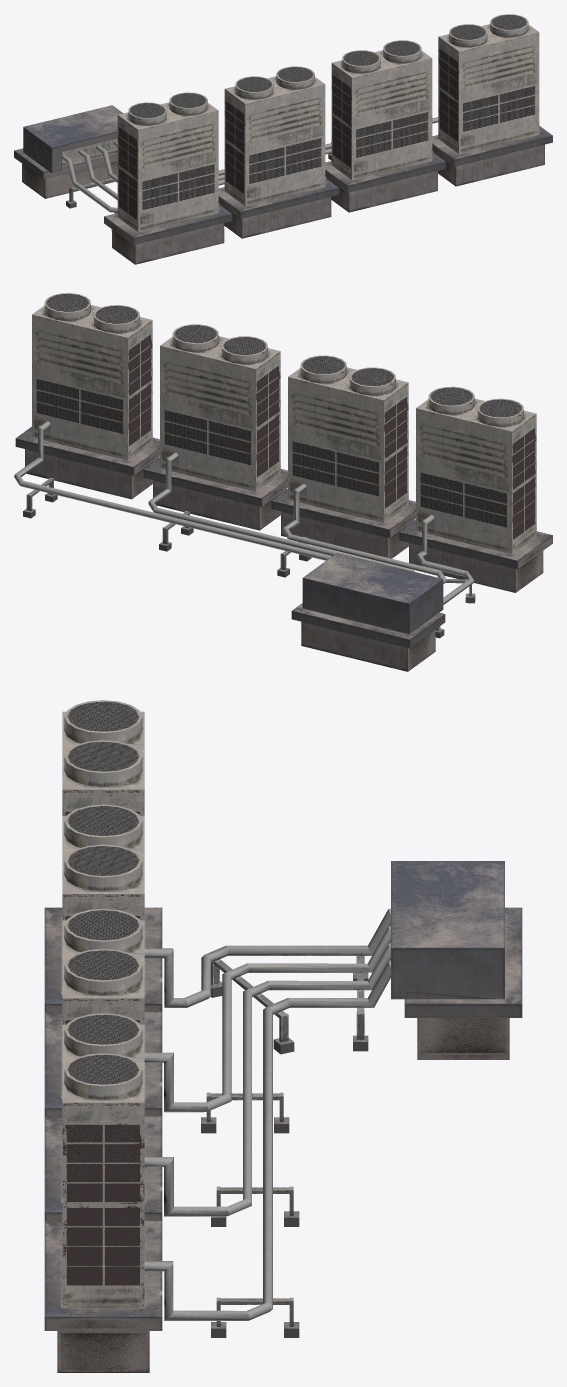
File: jctRoofEquipFanB.fbx
The picture shows the model from 3 angles, top to bottom: view 1: azimuth 30°, elevation 25°; view 2: azimuth 150°, elevation 25°; view 3: azimuth 270°, elevation 25°; orthographic projection. The views are drawn at different scales.
Parts seen in each view (by area): view 1: jctRoofEquipFanB; view 2: jctRoofEquipFanB; view 3: jctRoofEquipFanB.
Boxes of the visible parts, box(x1,y1,x2,y2) form: jctRoofEquipFanB: box(14, 14, 552, 264); jctRoofEquipFanB: box(14, 293, 552, 671); jctRoofEquipFanB: box(44, 700, 522, 1372).
Size of the model in its own units: 942 by 300 by 464.
